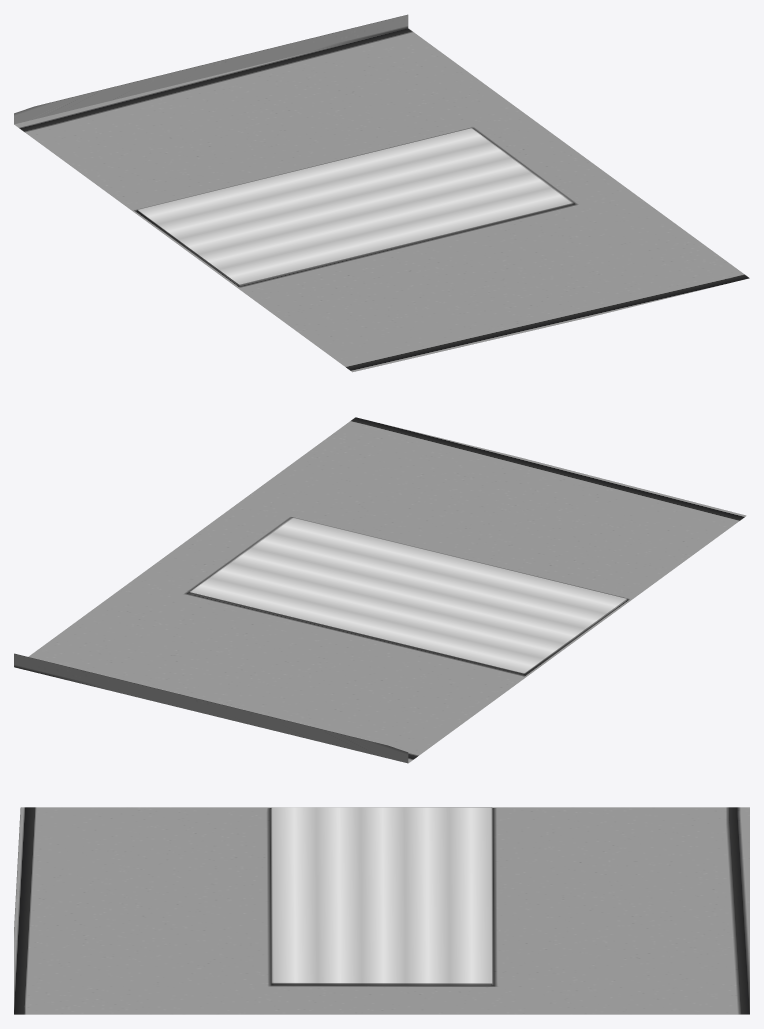
File: ceiling-4 1.fbx
3 renders of one model, top to bottom at view 1: azimuth 30°, elevation 25°; view 2: azimuth 150°, elevation 25°; view 3: azimuth 270°, elevation 25°, orthographic. The views are drawn at different scales.
Parts seen in each view (by area): view 1: pCube53; view 2: pCube53; view 3: pCube53.
Boxes of the visible parts, x1=… form: pCube53: x1=14, y1=14, x2=749, y2=372; pCube53: x1=14, y1=417, x2=746, y2=763; pCube53: x1=14, y1=807, x2=749, y2=1014.
Bounding box in the file's own units: 3 × 0.1 × 4.5.
Materials: 2 (2 with a texture image).
